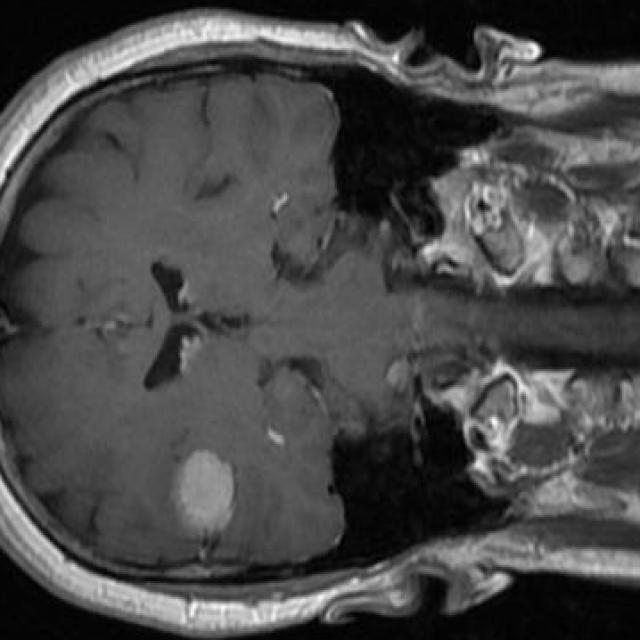meningioma: (176, 451, 237, 535)
